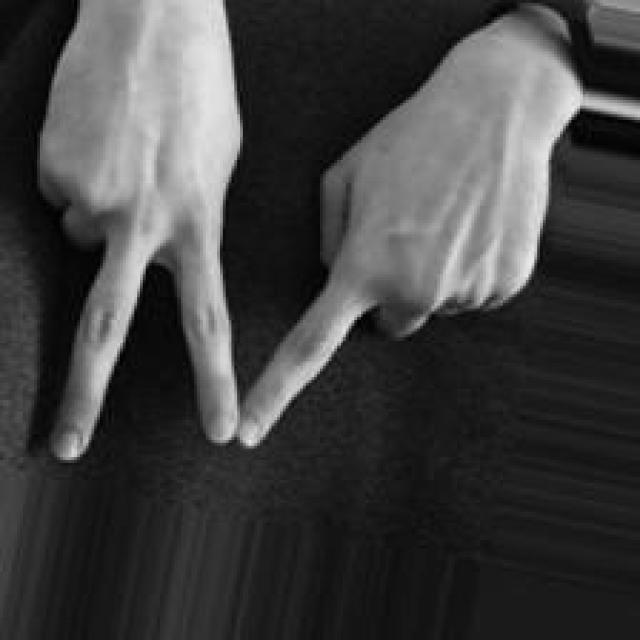N: (39, 4, 578, 472)
